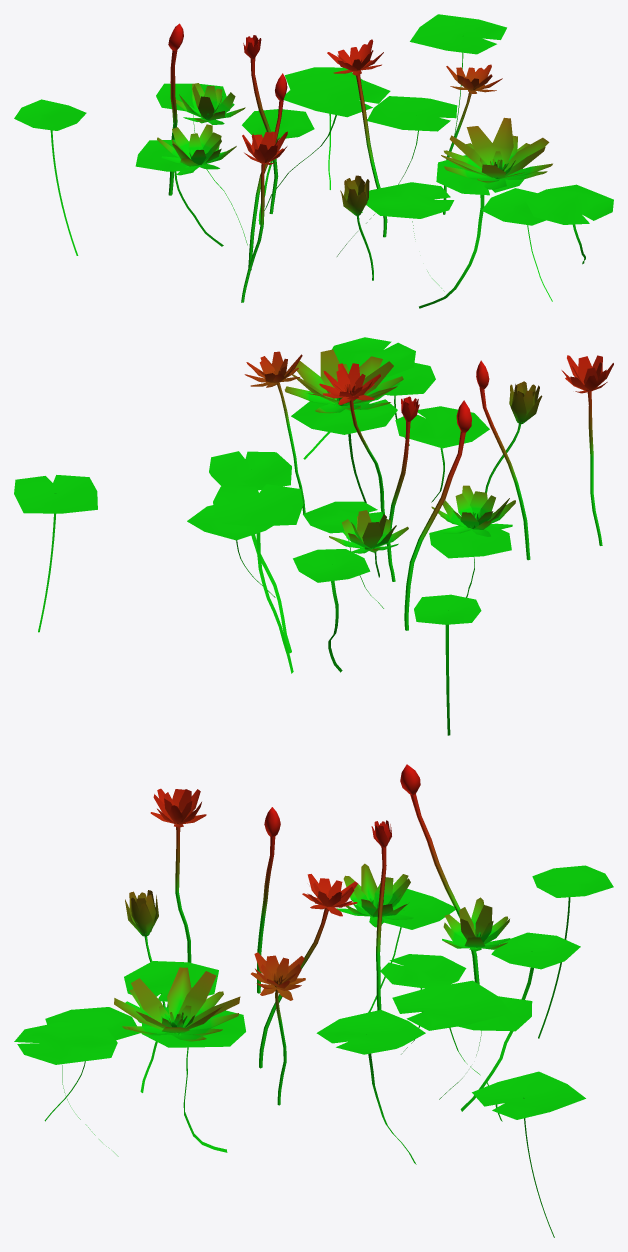
Rendered from Var6_LOD1.fbx.
The picture shows the model from 3 angles, top to bottom: view 1: azimuth 30°, elevation 25°; view 2: azimuth 150°, elevation 25°; view 3: azimuth 270°, elevation 25°; orthographic projection. The views are drawn at different scales.
Visible parts, largest first — view 1: _7e73_Var6_LOD1; view 2: _7e73_Var6_LOD1; view 3: _7e73_Var6_LOD1.
Part boxes in pixels (x1,y1,x2,y2): _7e73_Var6_LOD1: [14, 14, 613, 308]; _7e73_Var6_LOD1: [14, 337, 613, 735]; _7e73_Var6_LOD1: [14, 764, 613, 1237].
Size of the model in its own units: 149 by 85.04 by 148.
